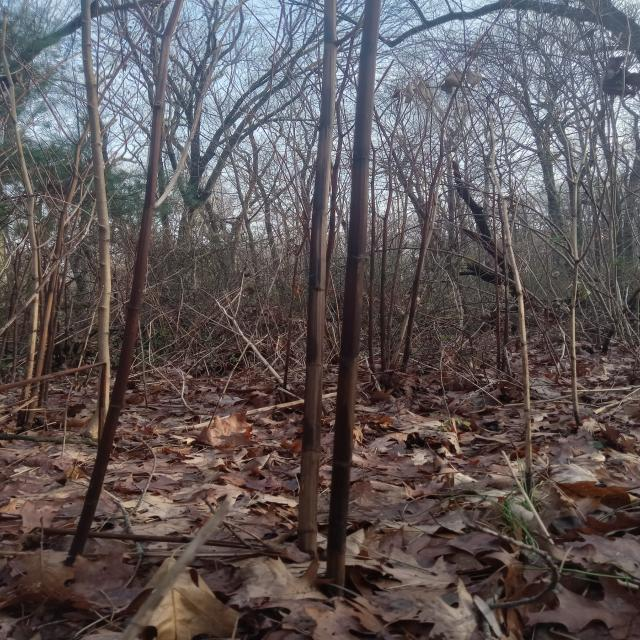knotweed-stems: (61, 1, 188, 566), (324, 1, 382, 594), (295, 1, 339, 564)
